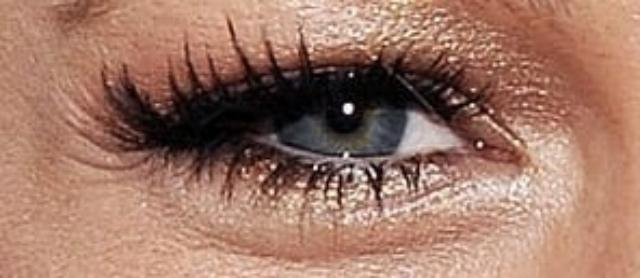eye: (271, 66, 413, 161)
